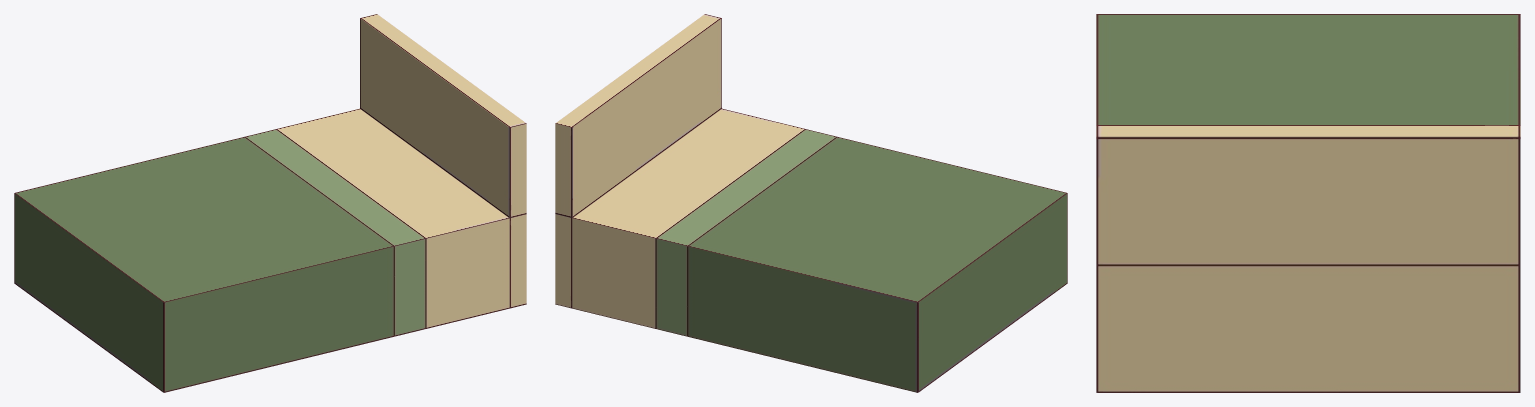
The model's file is Dream(3)_Bed.fbx.
3 renders of one model, left to right at view 1: azimuth 30°, elevation 25°; view 2: azimuth 150°, elevation 25°; view 3: azimuth 270°, elevation 25°, orthographic. The views are drawn at different scales.
Parts seen in each view (by area): view 1: Box001; view 2: Box001; view 3: Box001.
Part boxes in pixels (left/top/right/bottom): Box001: left=14, top=14, right=526, bottom=392; Box001: left=555, top=14, right=1067, bottom=392; Box001: left=1096, top=14, right=1520, bottom=392.
Bounding box in the file's own units: 84 × 40 × 60.
Materials: 1 (1 with a texture image).
